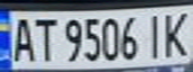0: (100, 15, 121, 62)
5: (81, 15, 103, 63)
6: (118, 12, 145, 61)
9: (60, 15, 84, 63)
A: (6, 14, 39, 63)
I: (142, 10, 169, 60)
K: (160, 8, 193, 60)
T: (30, 15, 57, 63)
